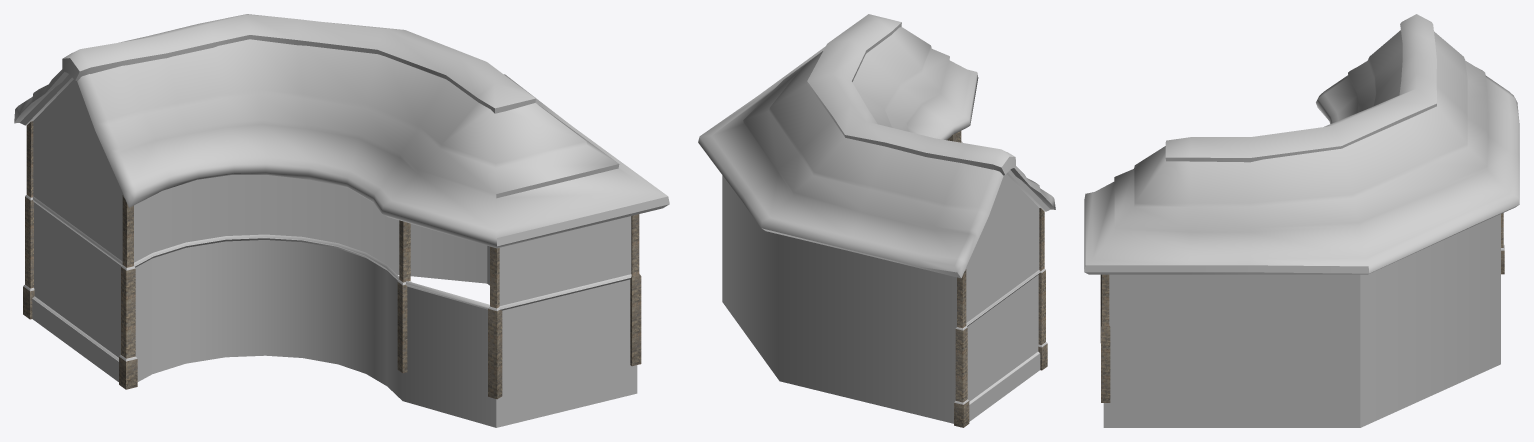
File: yuanfang_no.FBX
The picture shows the model from 3 angles, left to right: view 1: azimuth 30°, elevation 25°; view 2: azimuth 150°, elevation 25°; view 3: azimuth 270°, elevation 25°; orthographic projection. The views are drawn at different scales.
Parts seen in each view (by area): view 1: yuanfang02_no, yuanfang01_no, yuanfang03_no, yuanfang04_no; view 2: yuanfang01_no, yuanfang02_no, yuanfang03_no, yuanfang04_no; view 3: yuanfang01_no, yuanfang02_no, yuanfang03_no.
Part boxes in pixels (bbox=[...]): yuanfang02_no: bbox=[32, 79, 637, 427]; yuanfang01_no: bbox=[14, 14, 669, 361]; yuanfang03_no: bbox=[23, 121, 641, 399]; yuanfang04_no: bbox=[20, 74, 631, 310]; yuanfang01_no: bbox=[698, 14, 1055, 404]; yuanfang02_no: bbox=[722, 174, 1040, 423]; yuanfang03_no: bbox=[947, 131, 1047, 427]; yuanfang04_no: bbox=[964, 170, 1050, 326]; yuanfang01_no: bbox=[1084, 14, 1519, 274]; yuanfang02_no: bbox=[1103, 214, 1500, 427]; yuanfang03_no: bbox=[1100, 213, 1504, 402].
Bounding box in the file's own units: 31.52 × 22.14 × 33.87.
